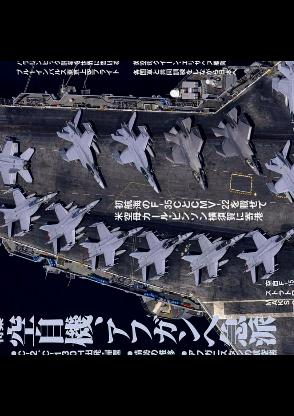F15: (55, 108, 104, 190), (110, 112, 158, 194), (234, 225, 293, 285), (128, 230, 192, 283), (38, 199, 98, 255), (180, 233, 244, 285), (78, 222, 142, 272), (0, 188, 57, 239), (262, 139, 293, 223), (270, 62, 293, 147), (0, 139, 34, 188)
F22: (210, 108, 260, 176), (162, 117, 206, 191)
